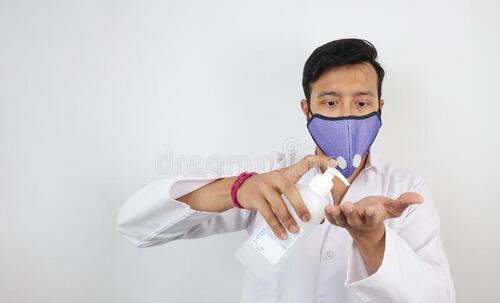sanitizer: (292, 161, 344, 224)
